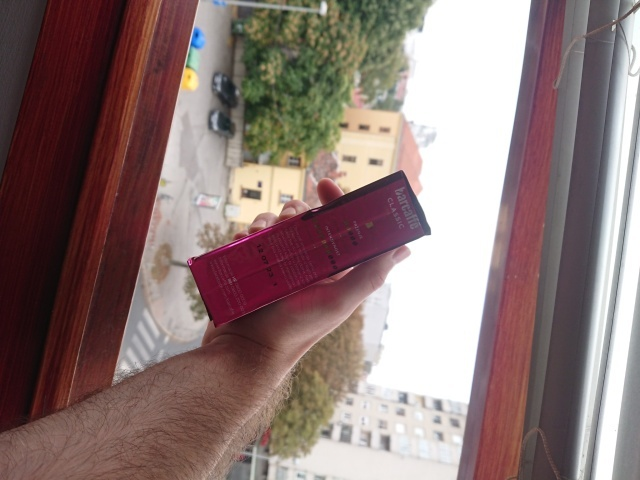Barcaffe Classic Original 225g: (185, 165, 434, 331)
